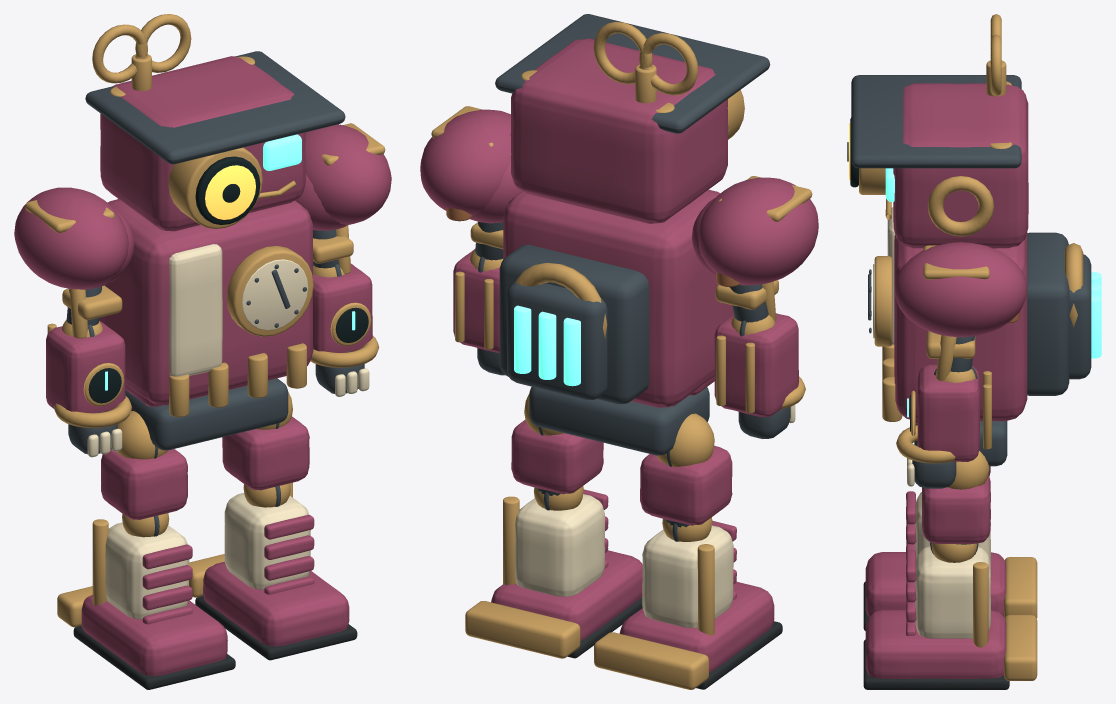
The model's file is clockwork_gunner.t4.glb.
3 views of the same model, side by side, from view 1: azimuth 30°, elevation 25°; view 2: azimuth 150°, elevation 25°; view 3: azimuth 270°, elevation 25° (orthographic). The views are drawn at different scales.
Visible parts, largest first — view 1: slot_torso__clay_clockwork_wine__clay, slot_legL__clay_clockwork_wine__clay, slot_legR__clay_clockwork_wine__clay, slot_head__clay_clockwork_wine__clay, slot_head__forged_bluelead_steel__protected, slot_armL__clay_clockwork_wine__clay, slot_armR__clay_clockwork_wine__clay, slot_torso__clay_warm_ivory__clay, slot_head__worn_warm_brass__protected, slot_torso__forged_bluelead_steel__protected, slot_torso__worn_warm_brass__protected, armL_elbow__clay_clockwork_wine__clay (+21 smaller); view 2: slot_head__clay_clockwork_wine__clay, slot_torso__forged_bluelead_steel__protected, slot_torso__clay_clockwork_wine__clay, slot_legL__clay_clockwork_wine__clay, slot_legR__clay_clockwork_wine__clay, slot_armL__clay_clockwork_wine__clay, slot_legL__worn_warm_brass__protected, slot_armR__clay_clockwork_wine__clay, slot_legR__clay_warm_ivory__clay, slot_head__forged_bluelead_steel__protected, slot_legR__worn_warm_brass__protected, slot_legL__clay_warm_ivory__clay (+14 smaller); view 3: slot_head__clay_clockwork_wine__clay, slot_legR__clay_clockwork_wine__clay, slot_torso__forged_bluelead_steel__protected, slot_armR__clay_clockwork_wine__clay, slot_head__forged_bluelead_steel__protected, slot_torso__clay_clockwork_wine__clay, slot_legR__worn_warm_brass__protected, slot_legR__clay_warm_ivory__clay, armR_elbow__clay_clockwork_wine__clay, slot_head__worn_warm_brass__protected, slot_legL__clay_clockwork_wine__clay, slot_torso__worn_warm_brass__protected (+9 smaller).
Boxes of the visible parts, x1,y1,x2,y2 form: slot_torso__clay_clockwork_wine__clay: (99, 199, 313, 406); slot_legL__clay_clockwork_wine__clay: (81, 449, 227, 676); slot_legR__clay_clockwork_wine__clay: (203, 416, 349, 646); slot_head__clay_clockwork_wine__clay: (100, 56, 305, 231); slot_head__forged_bluelead_steel__protected: (85, 51, 345, 164); slot_armL__clay_clockwork_wine__clay: (14, 187, 134, 289); slot_armR__clay_clockwork_wine__clay: (295, 124, 391, 230); slot_torso__clay_warm_ivory__clay: (169, 244, 222, 376); slot_head__worn_warm_brass__protected: (92, 14, 296, 228); slot_torso__forged_bluelead_steel__protected: (125, 264, 306, 450); slot_torso__worn_warm_brass__protected: (169, 246, 313, 417); armL_elbow__clay_clockwork_wine__clay: (46, 320, 125, 413); slot_head__clay_clockwork_wine__clay: (510, 38, 728, 223); slot_torso__forged_bluelead_steel__protected: (499, 244, 709, 455); slot_torso__clay_clockwork_wine__clay: (503, 189, 733, 407); slot_legL__clay_clockwork_wine__clay: (619, 445, 774, 672); slot_legR__clay_clockwork_wine__clay: (491, 419, 642, 641); slot_armL__clay_clockwork_wine__clay: (692, 177, 818, 285); slot_legL__worn_warm_brass__protected: (594, 413, 714, 689); slot_armR__clay_clockwork_wine__clay: (420, 109, 521, 223); slot_legR__clay_warm_ivory__clay: (515, 494, 604, 596); slot_head__forged_bluelead_steel__protected: (495, 14, 770, 133); slot_legR__worn_warm_brass__protected: (465, 394, 583, 658); slot_legL__clay_warm_ivory__clay: (642, 525, 733, 628); slot_head__clay_clockwork_wine__clay: (893, 83, 1028, 248); slot_legR__clay_clockwork_wine__clay: (865, 475, 1006, 678); slot_torso__forged_bluelead_steel__protected: (868, 232, 1091, 466); slot_armR__clay_clockwork_wine__clay: (894, 242, 1027, 337); slot_head__forged_bluelead_steel__protected: (851, 75, 1021, 168); slot_torso__clay_clockwork_wine__clay: (894, 233, 1027, 424); slot_legR__worn_warm_brass__protected: (931, 451, 1037, 680); slot_legR__clay_warm_ivory__clay: (915, 546, 990, 638); armR_elbow__clay_clockwork_wine__clay: (917, 364, 979, 461); slot_head__worn_warm_brass__protected: (859, 14, 1011, 236); slot_legL__clay_clockwork_wine__clay: (865, 466, 1006, 616); slot_torso__worn_warm_brass__protected: (874, 243, 1083, 421).
Bounding box in the file's own units: 1.92 × 3.14 × 1.22.
